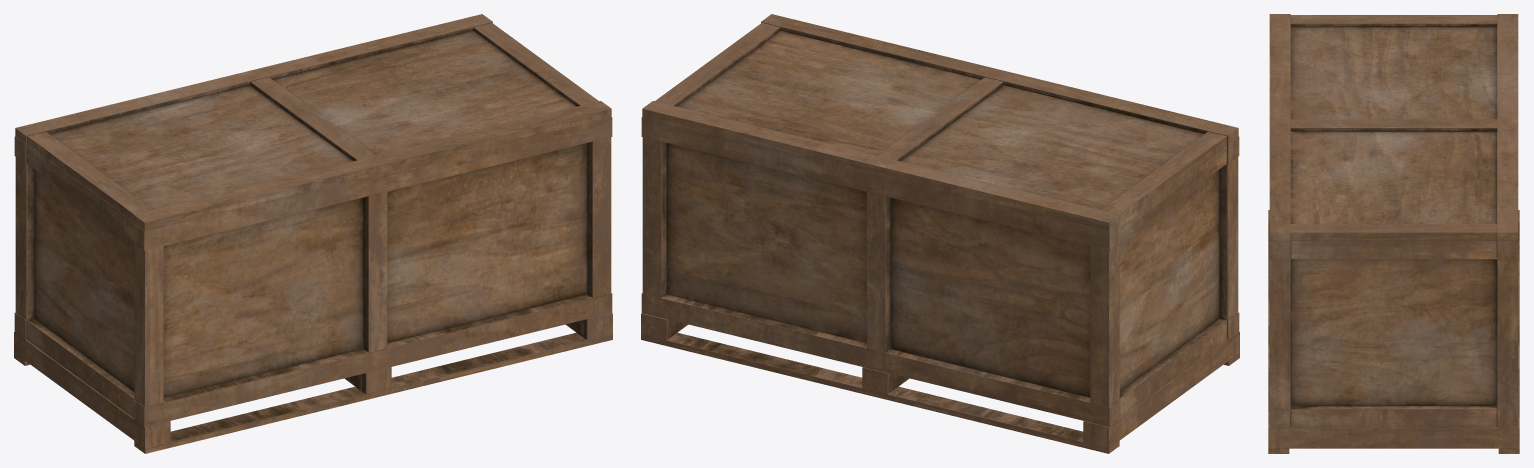
File: wooden_box.fbx
3 renders of one model, left to right at view 1: azimuth 30°, elevation 25°; view 2: azimuth 150°, elevation 25°; view 3: azimuth 270°, elevation 25°, orthographic. The views are drawn at different scales.
Parts seen in each view (by area): view 1: Wooden-box-long; view 2: Wooden-box-long; view 3: Wooden-box-long.
Boxes of the visible parts, x1=… form: Wooden-box-long: x1=14, y1=14, x2=612, y2=453; Wooden-box-long: x1=641, y1=14, x2=1239, y2=453; Wooden-box-long: x1=1268, y1=14, x2=1519, y2=453.
Bounding box in the file's own units: 250 × 118 × 121.
